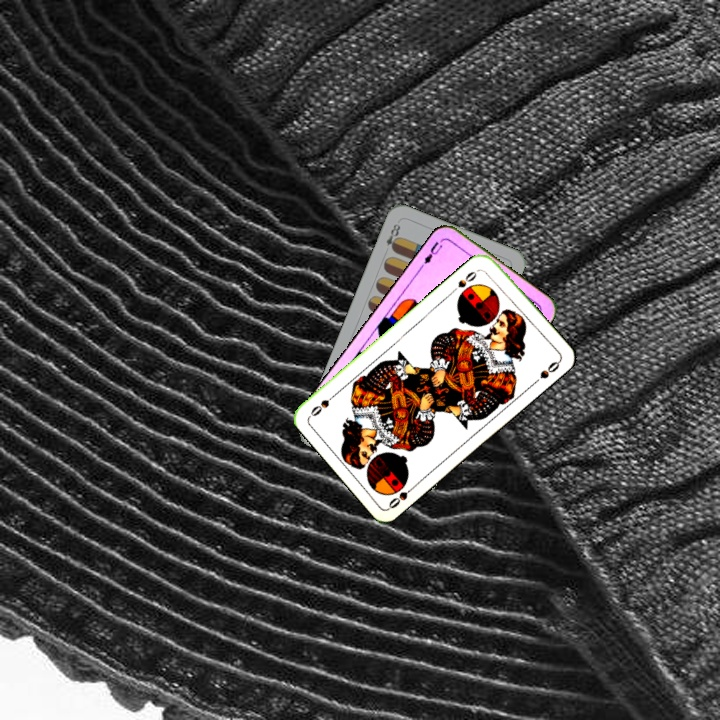E8: (382, 218, 403, 254)
EU: (417, 235, 446, 270)
SO: (384, 480, 419, 511), (454, 267, 480, 290)
